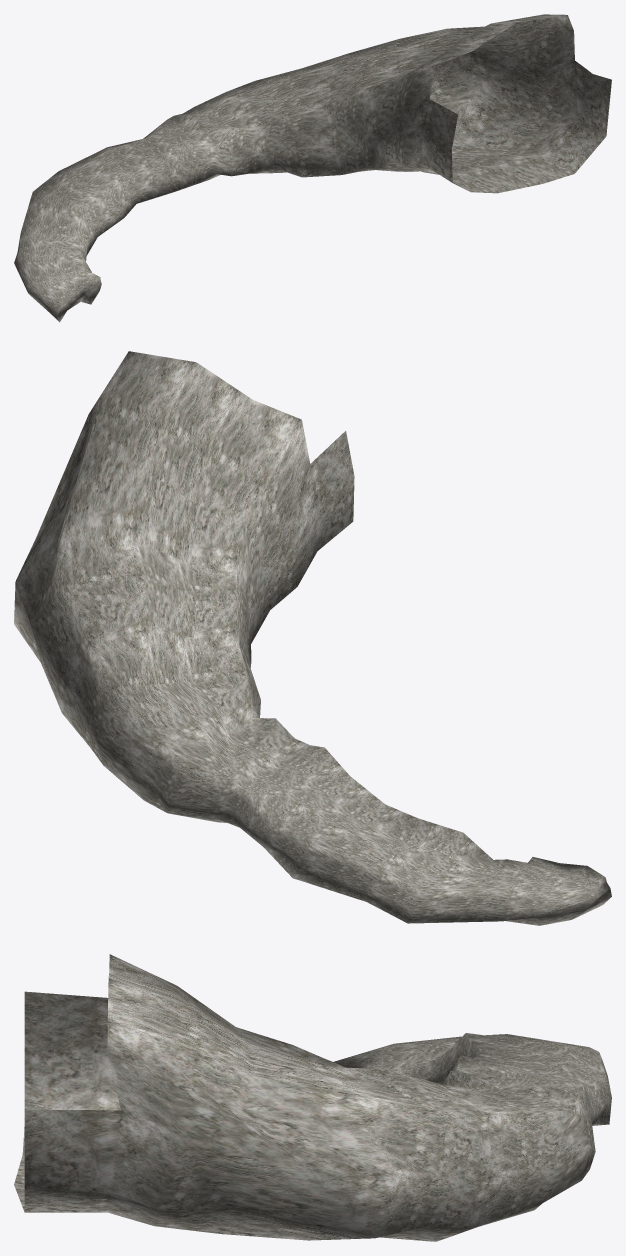
The model's file is DWARF_PALACE_MAINHALL_SMAUGCAVE.fbx.
3 views of the same model, one above another, from view 1: azimuth 30°, elevation 25°; view 2: azimuth 150°, elevation 25°; view 3: azimuth 270°, elevation 25° (orthographic). The views are drawn at different scales.
Parts seen in each view (by area): view 1: DWARF_PALACE_MAINHALL_SMAUGCAVE; view 2: DWARF_PALACE_MAINHALL_SMAUGCAVE; view 3: DWARF_PALACE_MAINHALL_SMAUGCAVE.
Part boxes in pixels (x1,y1,x2,y2): DWARF_PALACE_MAINHALL_SMAUGCAVE: [14, 14, 611, 322]; DWARF_PALACE_MAINHALL_SMAUGCAVE: [14, 351, 611, 925]; DWARF_PALACE_MAINHALL_SMAUGCAVE: [14, 954, 611, 1241].
Size of the model in its own units: 420891 by 226520 by 307163.
Materials: 1 (1 with a texture image).
